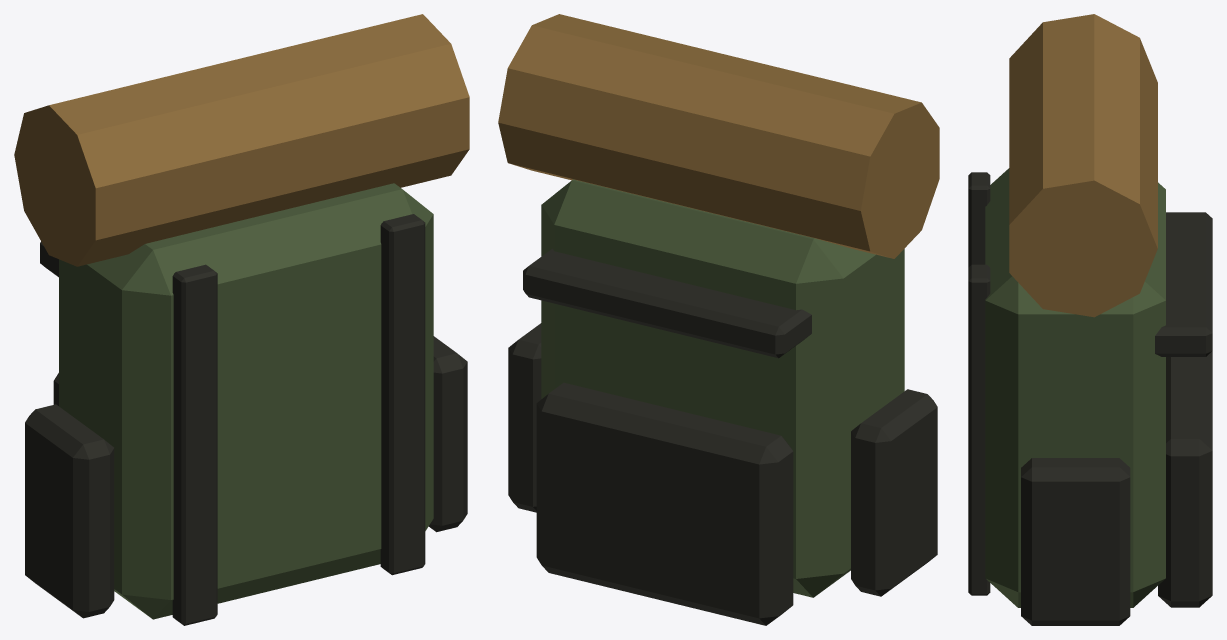
The model's file is npc_rucksack_roll.glb.
3 renders of one model, left to right at view 1: azimuth 30°, elevation 25°; view 2: azimuth 150°, elevation 25°; view 3: azimuth 270°, elevation 25°, orthographic. The views are drawn at different scales.
Parts seen in each view (by area): view 1: part.npc_rucksack_roll; view 2: part.npc_rucksack_roll; view 3: part.npc_rucksack_roll.
Boxes of the visible parts, x1,y1,x2,y2 form: part.npc_rucksack_roll: [14, 14, 469, 625]; part.npc_rucksack_roll: [498, 14, 939, 625]; part.npc_rucksack_roll: [968, 14, 1212, 625].
Bounding box in the file's own units: 0.38 × 0.4639 × 0.223.
